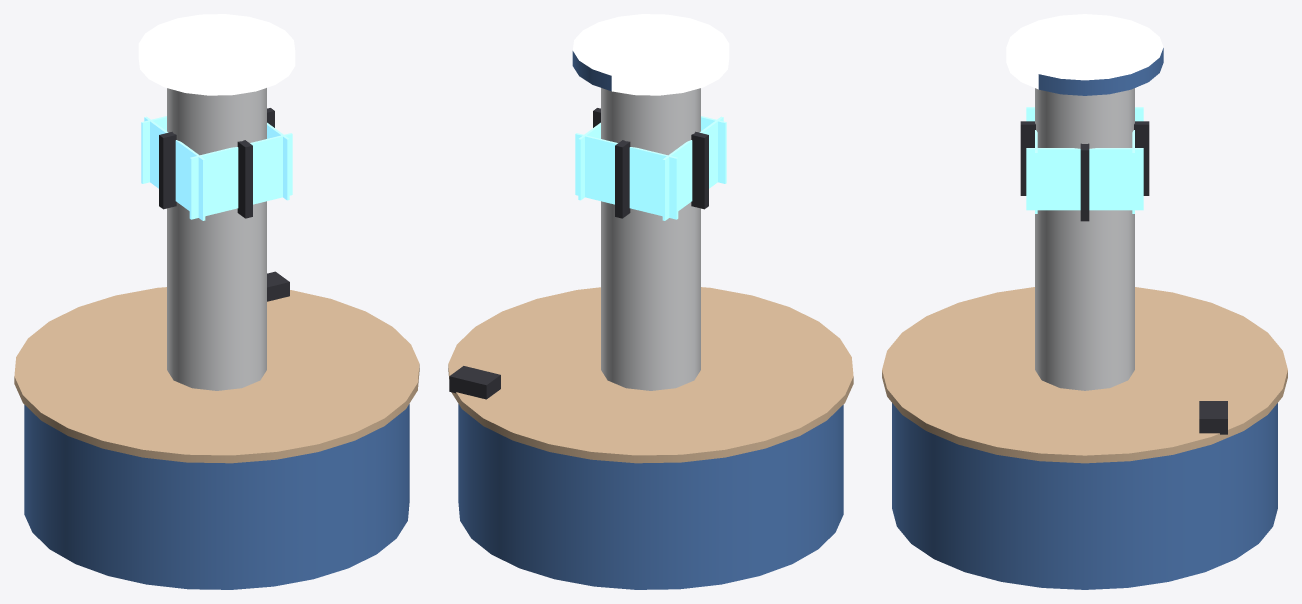
The model's file is info_kiosk.glb.
3 renders of one model, left to right at view 1: azimuth 30°, elevation 25°; view 2: azimuth 150°, elevation 25°; view 3: azimuth 270°, elevation 25°, orthographic.
Visible parts, largest first — view 1: info_kiosk; view 2: info_kiosk; view 3: info_kiosk.
Part boxes in pixels (left/top/right/bottom): info_kiosk: left=14, top=14, right=419, bottom=589; info_kiosk: left=448, top=14, right=853, bottom=589; info_kiosk: left=882, top=14, right=1287, bottom=589.
Size of the model in its own units: 2.84 by 3.56 by 2.84.
